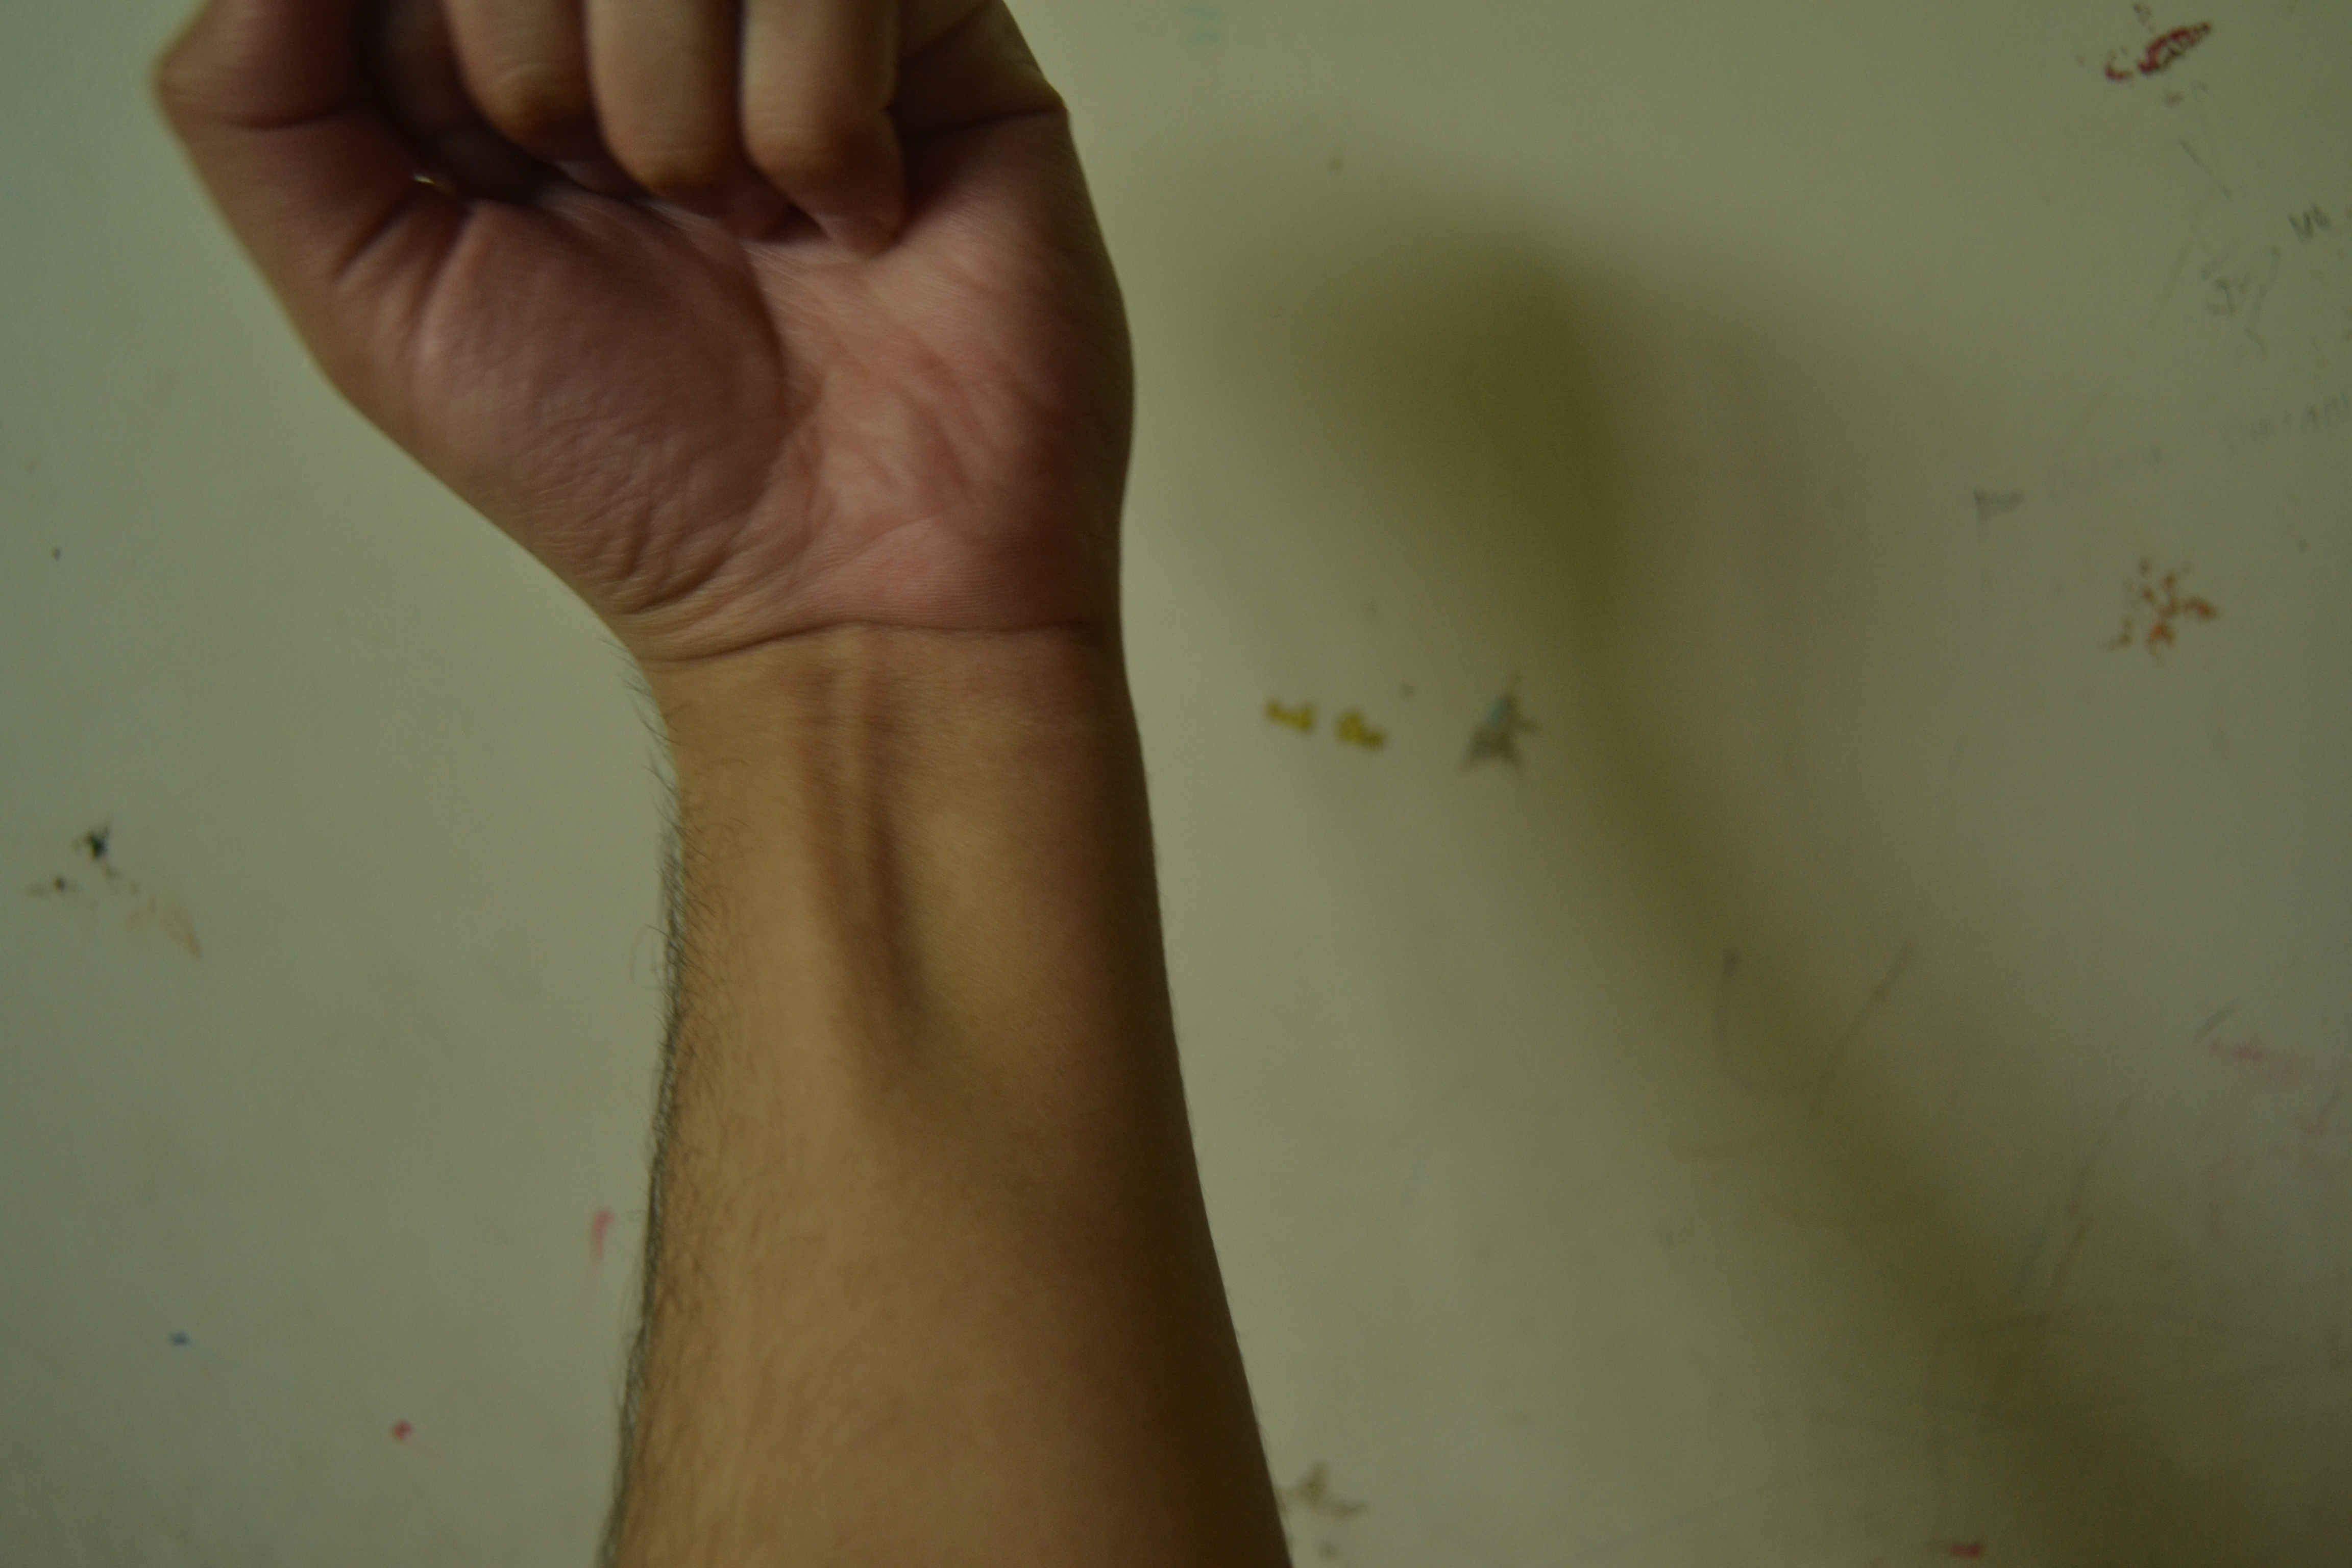click: (140, 0, 1199, 696)
